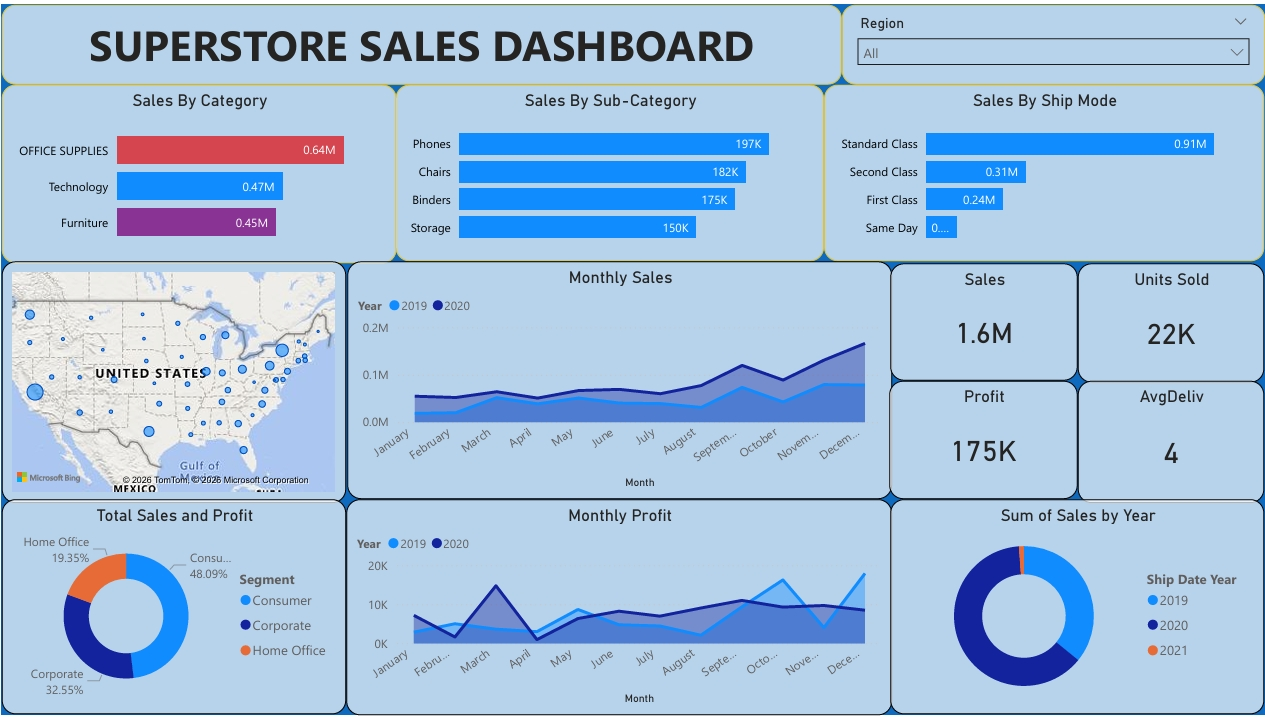

What the dashboard file says about the page in this screenshot:
{"tool":"powerbi","page":{"name":"Page 1","canvas":[1280,720],"ordinal":0},"visuals":[{"type":"clusteredBarChart","title":"Sales By Category","fields":{"Category":["SuperStore_Sales_Dataset.Category"],"Y":["Sum(SuperStore_Sales_Dataset.Sales)"]},"box":[0,81.4,400,180.2],"z":0},{"type":"clusteredBarChart","title":"Sales By Sub-Category","fields":{"Y":["Sum(SuperStore_Sales_Dataset.Sales)"],"Category":["SuperStore_Sales_Dataset.Sub-Category"]},"box":[398.8,81.4,433.7,179.1],"z":1000},{"type":"clusteredBarChart","title":"Sales By Ship Mode","fields":{"Y":["Sum(SuperStore_Sales_Dataset.Sales)"],"Category":["SuperStore_Sales_Dataset.Ship Mode"]},"box":[832.6,81.4,446.5,179.1],"z":2000},{"type":"areaChart","title":"Monthly Sales","fields":{"Y":["Sum(SuperStore_Sales_Dataset.Sales)"],"Series":["SuperStore_Sales_Dataset.Order Date.Variation.Date Hierarchy.Year"],"Category":["SuperStore_Sales_Dataset.Order Date.Variation.Date Hierarchy.Month","SuperStore_Sales_Dataset.Order Date.Variation.Date Hierarchy.Day"]},"box":[350,260.5,552.3,240.7],"z":3000},{"type":"areaChart","title":"Monthly Profit","fields":{"Series":["SuperStore_Sales_Dataset.Order Date.Variation.Date Hierarchy.Year"],"Category":["SuperStore_Sales_Dataset.Order Date.Variation.Date Hierarchy.Month","SuperStore_Sales_Dataset.Order Date.Variation.Date Hierarchy.Day"],"Y":["Sum(SuperStore_Sales_Dataset.Profit)"]},"box":[348.8,501.2,553.5,218.6],"z":4000},{"type":"map","fields":{"Category":["SuperStore_Sales_Dataset.State"],"Size":["Sum(SuperStore_Sales_Dataset.Sales)"]},"box":[0,260.5,348.8,244.2],"z":5000},{"type":"donutChart","title":"Total Sales and Profit ","fields":{"Y":["Sum(SuperStore_Sales_Dataset.Sales)"],"Category":["SuperStore_Sales_Dataset.Segment"]},"box":[0,501.2,348.8,217.4],"z":6000},{"type":"card","title":"Sales","fields":{"Values":["Sum(SuperStore_Sales_Dataset.Sales)"]},"box":[900,261.6,189.5,119.8],"z":7000},{"type":"card","title":"Units Sold","fields":{"Values":["Sum(SuperStore_Sales_Dataset.Quantity)"]},"box":[1089.5,261.6,189.5,120.9],"z":8000},{"type":"card","title":"Profit","fields":{"Values":["Sum(SuperStore_Sales_Dataset.Profit)"]},"box":[899.4,381.1,190.5,120.2],"z":9000},{"type":"card","title":"AvgDeliv","fields":{"Values":["Avg(SuperStore_Sales_Dataset.AvgDelivery)"]},"box":[1089.5,381.4,189.5,123.3],"z":10000},{"type":"donutChart","fields":{"Category":["SuperStore_Sales_Dataset.Ship Date.Variation.Date Hierarchy.Year"],"Y":["Sum(SuperStore_Sales_Dataset.Sales)"]},"box":[900,501.2,379.1,217.4],"z":11000},{"type":"textbox","box":[0,0,851.2,81.4],"z":12000},{"type":"slicer","fields":{"Values":["SuperStore_Sales_Dataset.Region"]},"box":[851.2,0,429.1,81.4],"z":13000}]}

Visuals, with their boxes in screenshot pixels (x1, y1, x2, y2), scaled from the page's 1280x720 canvas onto the 1265x718 screenshot:
"Sales By Category" clusteredBarChart: [left=0, top=81, right=395, bottom=261]
"Sales By Sub-Category" clusteredBarChart: [left=394, top=81, right=823, bottom=260]
"Sales By Ship Mode" clusteredBarChart: [left=823, top=81, right=1264, bottom=260]
"Monthly Sales" areaChart: [left=346, top=260, right=892, bottom=500]
"Monthly Profit" areaChart: [left=345, top=500, right=892, bottom=717]
map - SuperStore_Sales_Dataset.State x Sum(SuperStore_Sales_Dataset.Sales): [left=0, top=260, right=345, bottom=503]
"Total Sales and Profit " donutChart: [left=0, top=500, right=345, bottom=717]
"Sales" card: [left=889, top=261, right=1077, bottom=380]
"Units Sold" card: [left=1077, top=261, right=1264, bottom=381]
"Profit" card: [left=889, top=380, right=1077, bottom=500]
"AvgDeliv" card: [left=1077, top=380, right=1264, bottom=503]
donutChart - SuperStore_Sales_Dataset.Ship Date.Variation.Date Hierarchy.Year x Sum(SuperStore_Sales_Dataset.Sales): [left=889, top=500, right=1264, bottom=717]
textbox: [left=0, top=0, right=841, bottom=81]
slicer - SuperStore_Sales_Dataset.Region: [left=841, top=0, right=1264, bottom=81]
